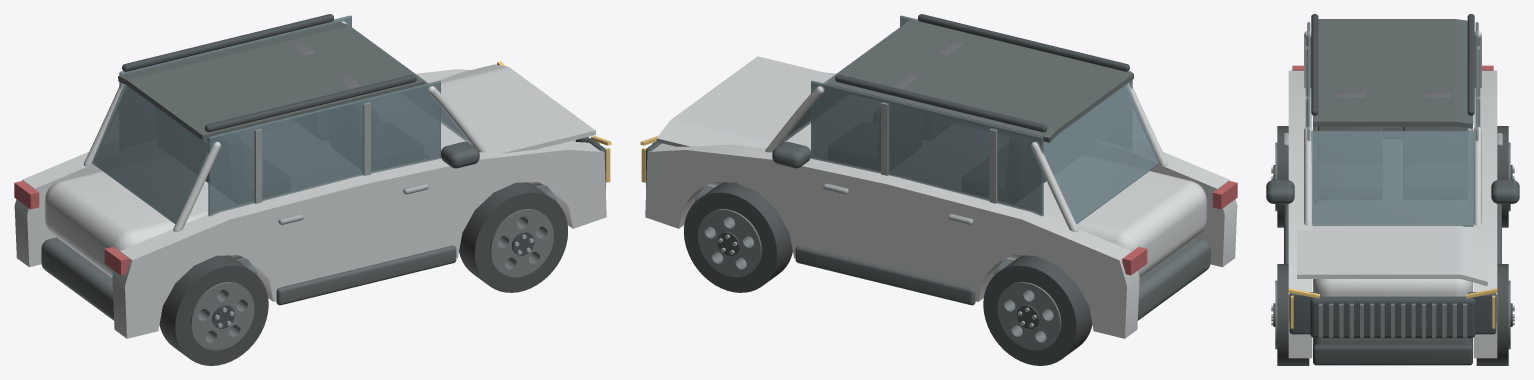
3 views of the same model, side by side, from view 1: azimuth 30°, elevation 25°; view 2: azimuth 150°, elevation 25°; view 3: azimuth 270°, elevation 25° (orthographic). The views are drawn at different scales.
Visible parts, largest first — view 1: side0, roof_bent, glass_side_-1, glass_rear, wheel_rear_right, wheel_front_right, hood_bent, bodycore, side2, rocker0, underbody, rail0 (+10 smaller); view 2: side2, roof_bent, glass_side_1, hood_bent, glass_rear, wheel_rear_left, wheel_front_left, bodycore, rocker2, underbody, side0, rail2 (+9 smaller); view 3: roof_bent, glass_windshield, hood_bent, grille, side2, side0, lowergrille, bodycore, wheel_front_left, wheel_front_right, underbody, wheel_rear_left (+19 smaller).
Part boxes in pixels (x1,y1,x2,y2): side0: (112,141,606,338); roof_bent: (118,22,424,140); glass_side_-1: (208,80,440,216); glass_rear: (92,84,208,224); wheel_rear_right: (159,255,268,365); wheel_front_right: (459,182,567,292); hood_bent: (439,64,595,153); bodycore: (45,140,575,277); side2: (14,69,470,267); rocker0: (276,245,456,305); underbody: (41,185,556,320); rail0: (204,74,416,132); side2: (645,143,1139,338); roof_bent: (827,19,1133,142); glass_side_1: (811,80,1043,216); hood_bent: (656,56,834,150); glass_rear: (1043,83,1159,224); wheel_rear_left: (983,255,1092,365); wheel_front_left: (684,182,792,292); bodycore: (707,171,1206,277); rocker2: (795,245,975,305); underbody: (695,185,1210,320); side0: (824,72,1237,267); rail2: (835,74,1047,132); roof_bent: (1313,19,1473,128); glass_windshield: (1310,130,1475,226); hood_bent: (1297,224,1488,285); grille: (1310,296,1475,338); side2: (1473,70,1497,358); side0: (1288,70,1312,358); lowergrille: (1313,344,1472,365); bodycore: (1313,126,1472,296); wheel_front_left: (1476,264,1514,365); wheel_front_right: (1271,264,1309,365); underbody: (1313,338,1472,346); wheel_rear_left: (1497,126,1514,227).
Size of the model in its own units: 4.6 by 2 by 2.17.
